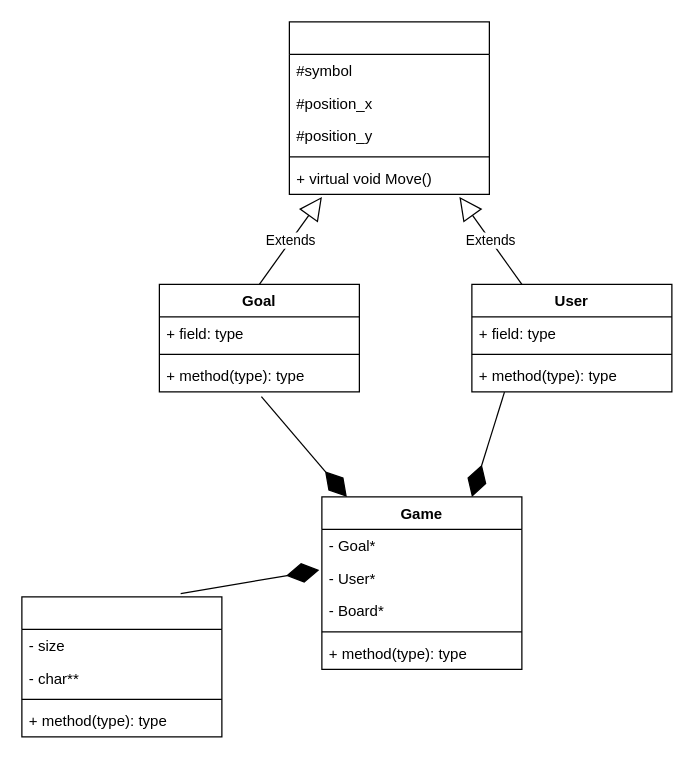
This 694x763 diagram has some shape labels left out. Each missing label, with the box of its shape:
Board: (21, 596, 222, 737)
Player: (288, 21, 489, 194)
